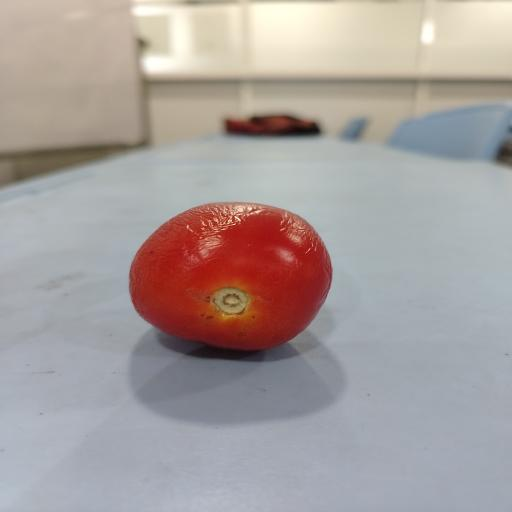spoiled: (130, 202, 332, 350)
